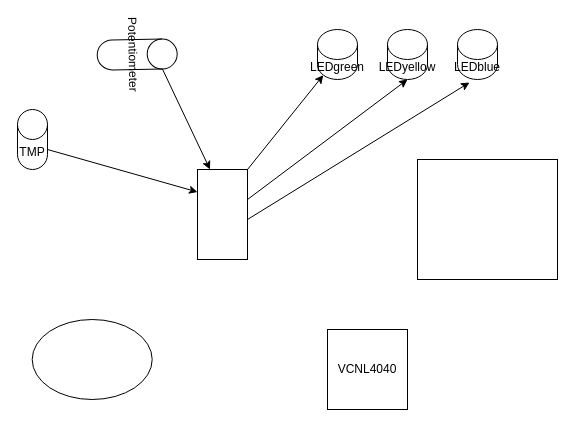
This 575x428 diagram has some shape labels left out. Each missing label, with the centre of its shape:
"Argon" goes at point 222,214.
"BLYNK CLOUD" goes at point 91,359.
"Oled display" goes at point 487,219.
